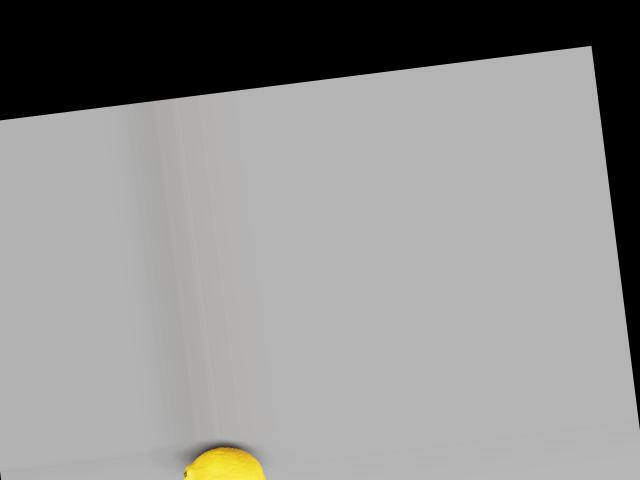lemon: (180, 443, 271, 480)
